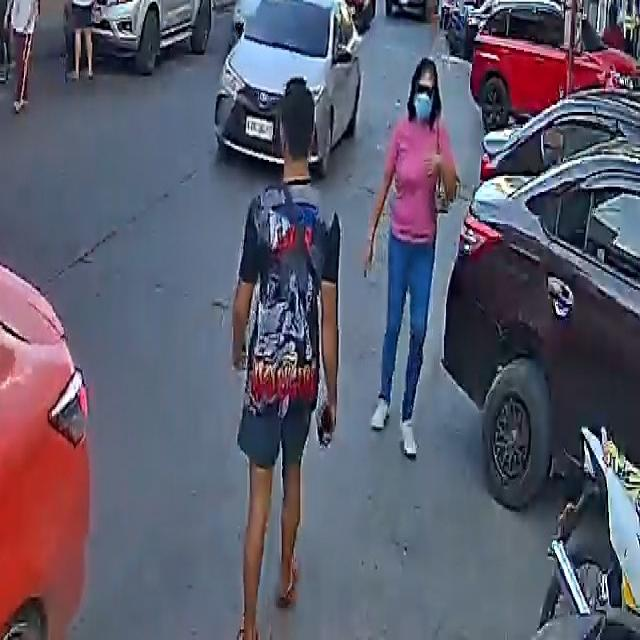car: (443, 91, 640, 522), (0, 178, 92, 640), (213, 0, 365, 181), (466, 0, 640, 128), (75, 0, 224, 69), (234, 0, 305, 23), (384, 0, 431, 14)
